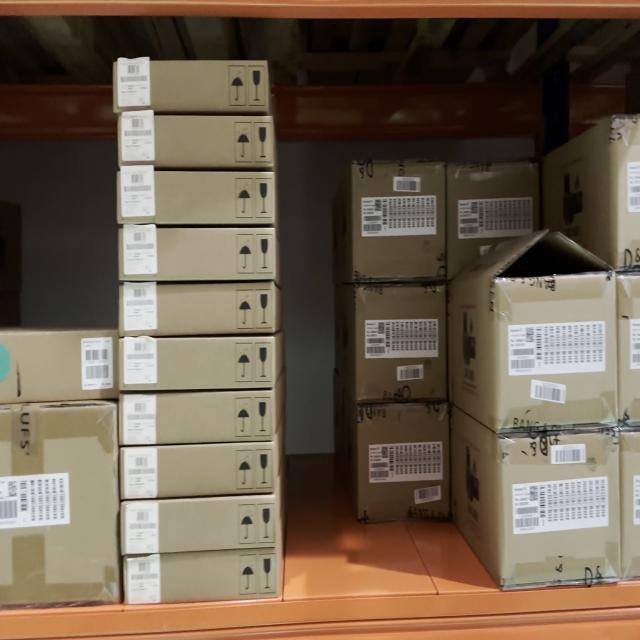box: (0, 410, 124, 607), (494, 277, 616, 428), (499, 436, 616, 584), (353, 161, 444, 289), (358, 407, 451, 520), (448, 160, 541, 273), (358, 293, 448, 403), (119, 165, 276, 228), (122, 333, 274, 391), (114, 58, 270, 114), (121, 495, 277, 551), (119, 110, 271, 166), (0, 330, 114, 404), (124, 551, 282, 602), (119, 227, 275, 277), (119, 391, 274, 440), (120, 447, 274, 495), (119, 283, 274, 330)
